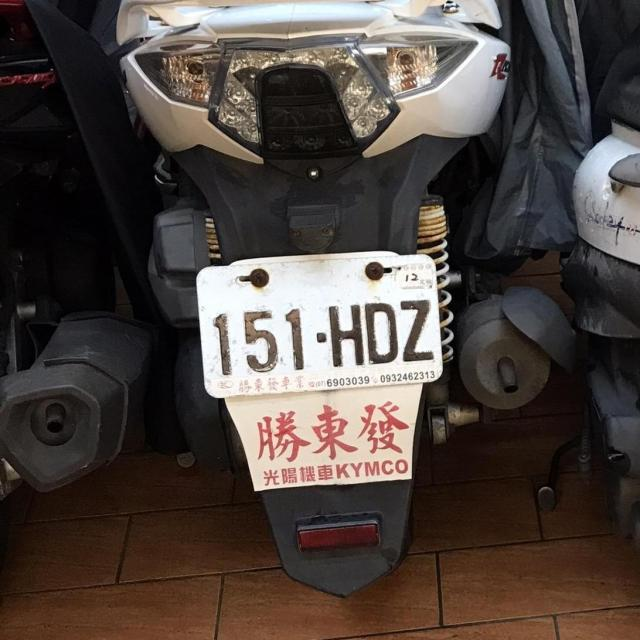W: (190, 245, 448, 404)
